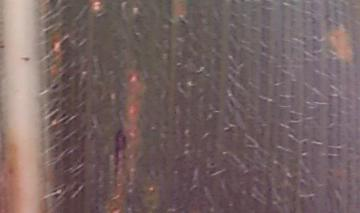tarspot: (112, 128, 127, 152)
